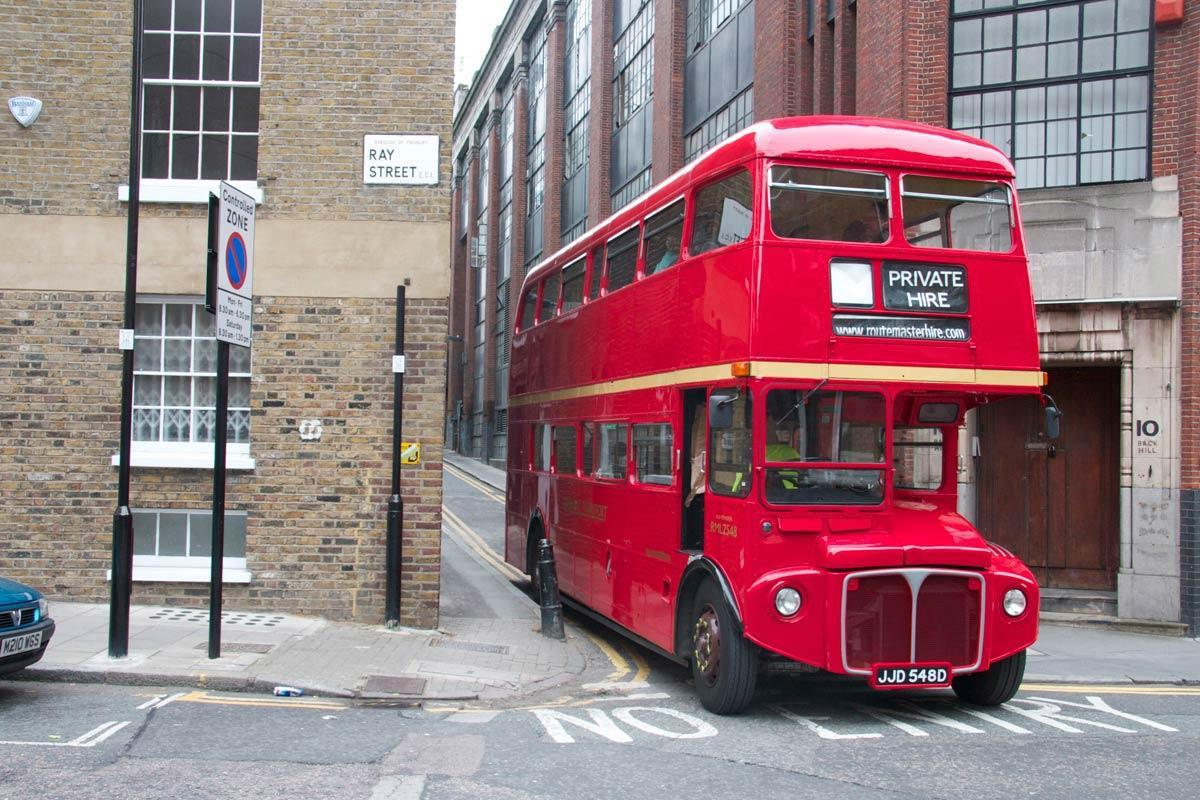Bus: (501, 115, 1053, 718)
